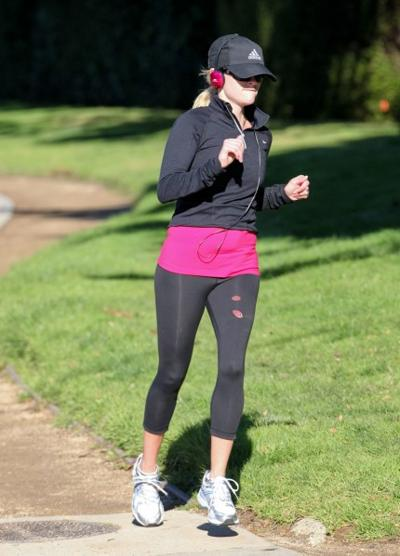person: (130, 35, 312, 530)
